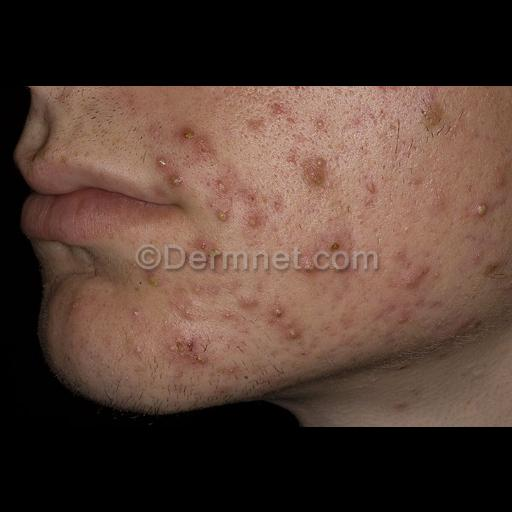Skin_Lesion: (168, 322, 214, 372), (416, 85, 454, 133), (302, 148, 336, 194), (270, 300, 304, 342), (178, 121, 216, 155), (155, 152, 187, 192), (237, 272, 267, 310), (321, 276, 353, 304), (398, 264, 432, 290), (464, 196, 492, 226), (360, 178, 384, 208), (270, 97, 290, 119), (214, 202, 232, 224), (484, 257, 502, 279), (246, 115, 268, 133), (289, 85, 315, 99), (143, 272, 163, 290), (375, 85, 405, 97), (243, 187, 261, 207), (244, 211, 264, 229), (53, 85, 71, 103), (327, 236, 345, 254), (192, 232, 210, 250), (314, 115, 330, 135), (398, 308, 412, 328), (156, 186, 166, 198), (189, 85, 203, 91)
